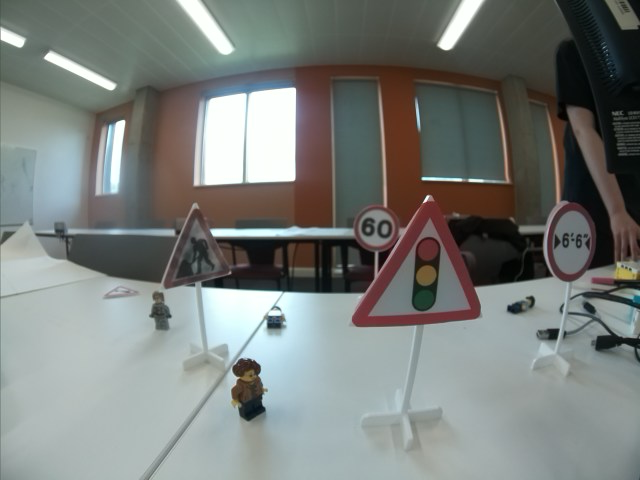60mph: (352, 203, 400, 252)
6ft6: (542, 205, 597, 280)
Lego Man: (230, 358, 269, 421), (147, 289, 173, 331), (506, 294, 538, 316), (263, 305, 286, 330)
Roadworks: (161, 208, 232, 289)
Traffic lights: (350, 203, 485, 329)
Warning: (103, 284, 138, 299)
